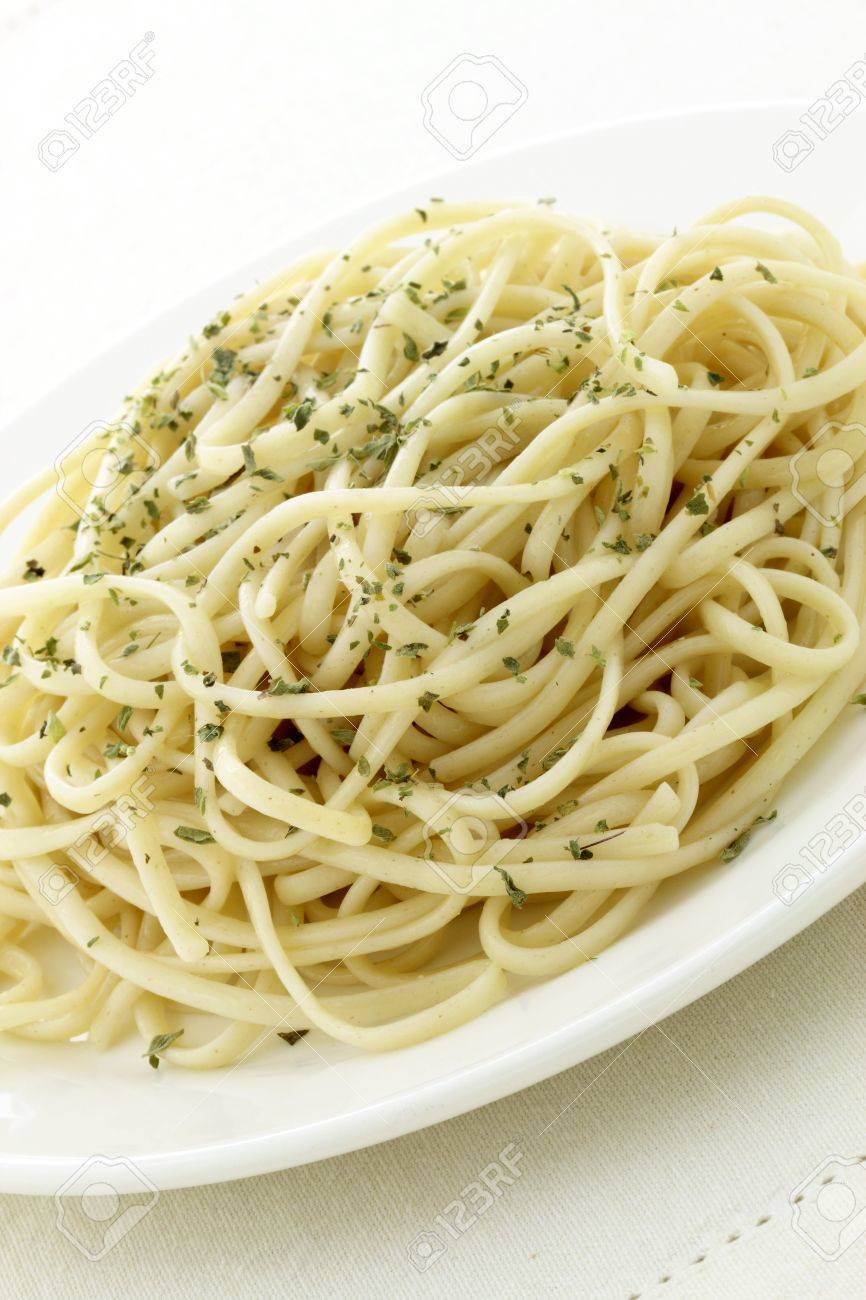plain spaghetti: (10, 220, 866, 990)
